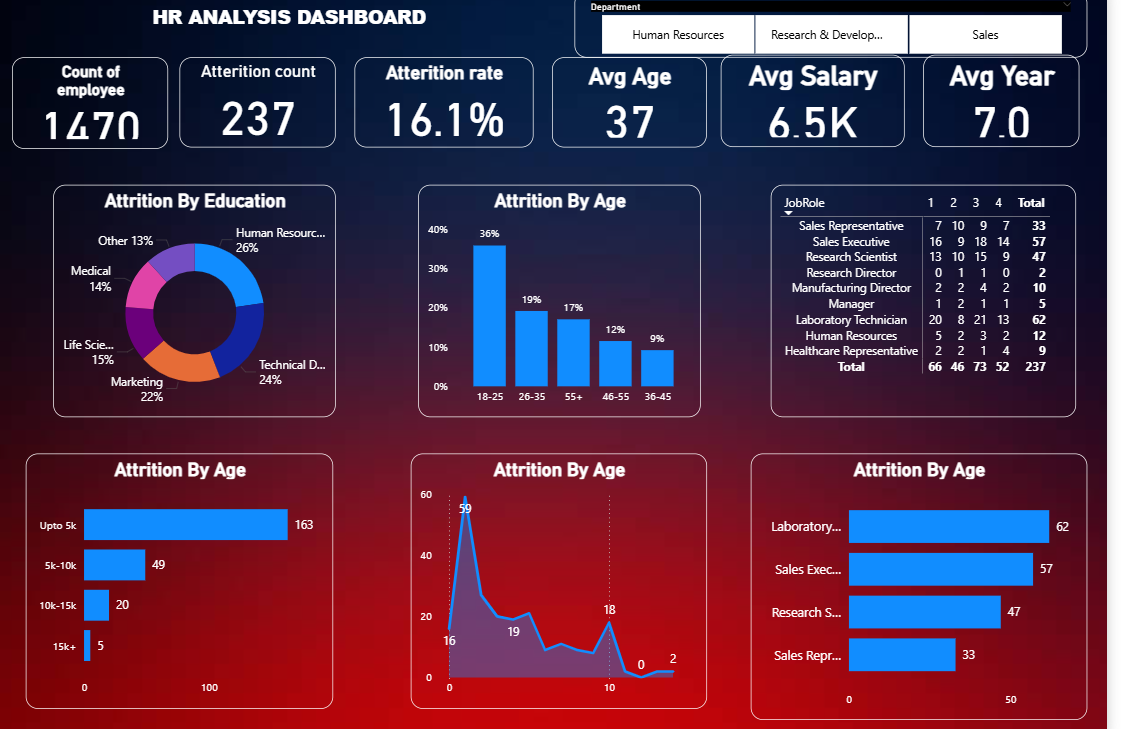

This screenshot's page, from the dashboard's own definition file:
{"tool":"powerbi","page":{"name":"Page 1","canvas":[1280,860],"ordinal":0},"visuals":[{"type":"card","title":"Count of employee","fields":{"Values":["CountNonNull(HR_Analytics.EmpID)"]},"box":[17.3,76.4,180.2,105.2],"z":0},{"type":"card","title":"Atterition count","fields":{"Values":["Sum(HR_Analytics.Atteritioncount)"]},"box":[210.5,76.4,180.2,103.8],"z":1000},{"type":"card","title":"Atterition rate","fields":{"Values":["HR_Analytics.AttritionRate"]},"box":[412.3,76.4,206.2,103.8],"z":2000},{"type":"card","title":" Avg Age","fields":{"Values":["Avg(HR_Analytics.Age)"]},"box":[640.1,76.4,178.8,103.8],"z":3000},{"type":"card","title":"Avg Salary","fields":{"Values":["Avg(HR_Analytics.MonthlyIncome)"]},"box":[834.8,73.5,211.9,106.7],"z":4000},{"type":"card","title":"Avg Year","fields":{"Values":["Avg(HR_Analytics.YearsAtCompany)"]},"box":[1068.4,73.5,180.2,106.7],"z":5000},{"type":"donutChart","title":"Attrition By Education","fields":{"Category":["HR_Analytics.EducationField"],"Y":["HR_Analytics.AttritionRate"]},"box":[64.9,223.5,325.8,268.2],"z":6000},{"type":"columnChart","title":"Attrition By Age","fields":{"Category":["HR_Analytics.AgeGroup"],"Y":["HR_Analytics.AttritionRate"]},"box":[485.9,223.5,325.8,268.2],"z":7000},{"type":"pivotTable","title":"Attrition By Age","fields":{"Rows":["HR_Analytics.JobRole"],"Columns":["HR_Analytics.JobSatisfaction"],"Values":["Sum(HR_Analytics.Atteritioncount)"]},"box":[892.5,223.5,351.8,268.2],"z":8000},{"type":"barChart","title":"Attrition By Age","fields":{"Category":["HR_Analytics.SalarySlab"],"Y":["Sum(HR_Analytics.Atteritioncount)"]},"box":[33.2,533.5,354.7,294.1],"z":9000},{"type":"clusteredBarChart","title":"Attrition By Age","fields":{"Y":["Sum(HR_Analytics.Atteritioncount)"],"Category":["HR_Analytics.JobRole"]},"box":[869.4,533.5,387.8,307.1],"z":10000},{"type":"areaChart","title":"Attrition By Age","fields":{"Category":["HR_Analytics.YearsAtCompany"],"Y":["Sum(HR_Analytics.Atteritioncount)"]},"box":[477.2,533.5,341.7,294.1],"z":11000},{"type":"slicer","fields":{"Values":["HR_Analytics.Department"]},"box":[666.1,0,591.1,76.4],"z":12000},{"type":"textbox","box":[33.2,10.1,607,63.4],"z":13000}]}

Visuals, with their boxes on the page's 1280x860 design canvas (x1, y1, x2, y2). These are canvas units, not pixel positions in the 1121x729 screenshot, which may show the page scaled, cropped or inside an application window:
"Count of employee" card: Rect(17, 76, 198, 182)
"Atterition count" card: Rect(210, 76, 391, 180)
"Atterition rate" card: Rect(412, 76, 618, 180)
" Avg Age" card: Rect(640, 76, 819, 180)
"Avg Salary" card: Rect(835, 74, 1047, 180)
"Avg Year" card: Rect(1068, 74, 1249, 180)
"Attrition By Education" donutChart: Rect(65, 224, 391, 492)
"Attrition By Age" columnChart: Rect(486, 224, 812, 492)
"Attrition By Age" pivotTable: Rect(892, 224, 1244, 492)
"Attrition By Age" barChart: Rect(33, 534, 388, 828)
"Attrition By Age" clusteredBarChart: Rect(869, 534, 1257, 841)
"Attrition By Age" areaChart: Rect(477, 534, 819, 828)
slicer - HR_Analytics.Department: Rect(666, 0, 1257, 76)
textbox: Rect(33, 10, 640, 74)
